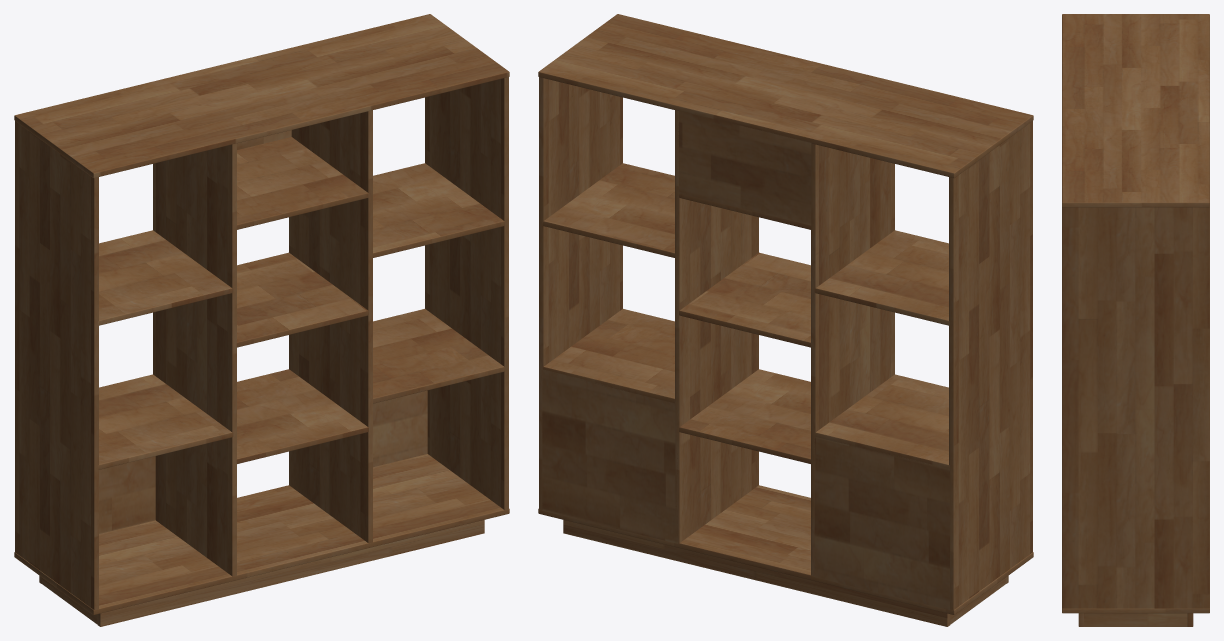
The model's file is MEGA_PACK_Shelf__shelf-609241_frame_merbau.glb.
3 renders of one model, left to right at view 1: azimuth 30°, elevation 25°; view 2: azimuth 150°, elevation 25°; view 3: azimuth 270°, elevation 25°, orthographic. The views are drawn at different scales.
Parts seen in each view (by area): view 1: shelf-609241_frame_merbau; view 2: shelf-609241_frame_merbau; view 3: shelf-609241_frame_merbau.
Boxes of the visible parts, bbox=[...] form: shelf-609241_frame_merbau: bbox=[14, 14, 509, 626]; shelf-609241_frame_merbau: bbox=[538, 14, 1033, 626]; shelf-609241_frame_merbau: bbox=[1062, 14, 1209, 626].
Size of the model in its own units: 1.2 by 1.28 by 0.397.
Materials: 1 (1 with a texture image).
